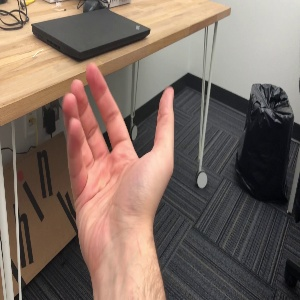hand: (62, 62, 173, 233)
